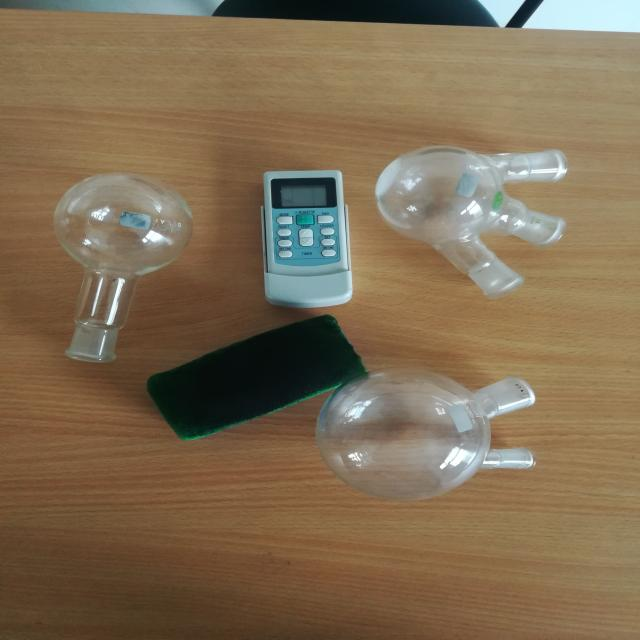Round_Bottom_Flask_Borosilicate_Glass_1_Neck: (3, 144, 206, 389)
Round_Bottom_Flask_Borosilicate_Glass_2_Neck: (302, 350, 574, 522)
Round_Bottom_Flask_Borosilicate_Glass_3_Neck: (362, 123, 593, 309)
